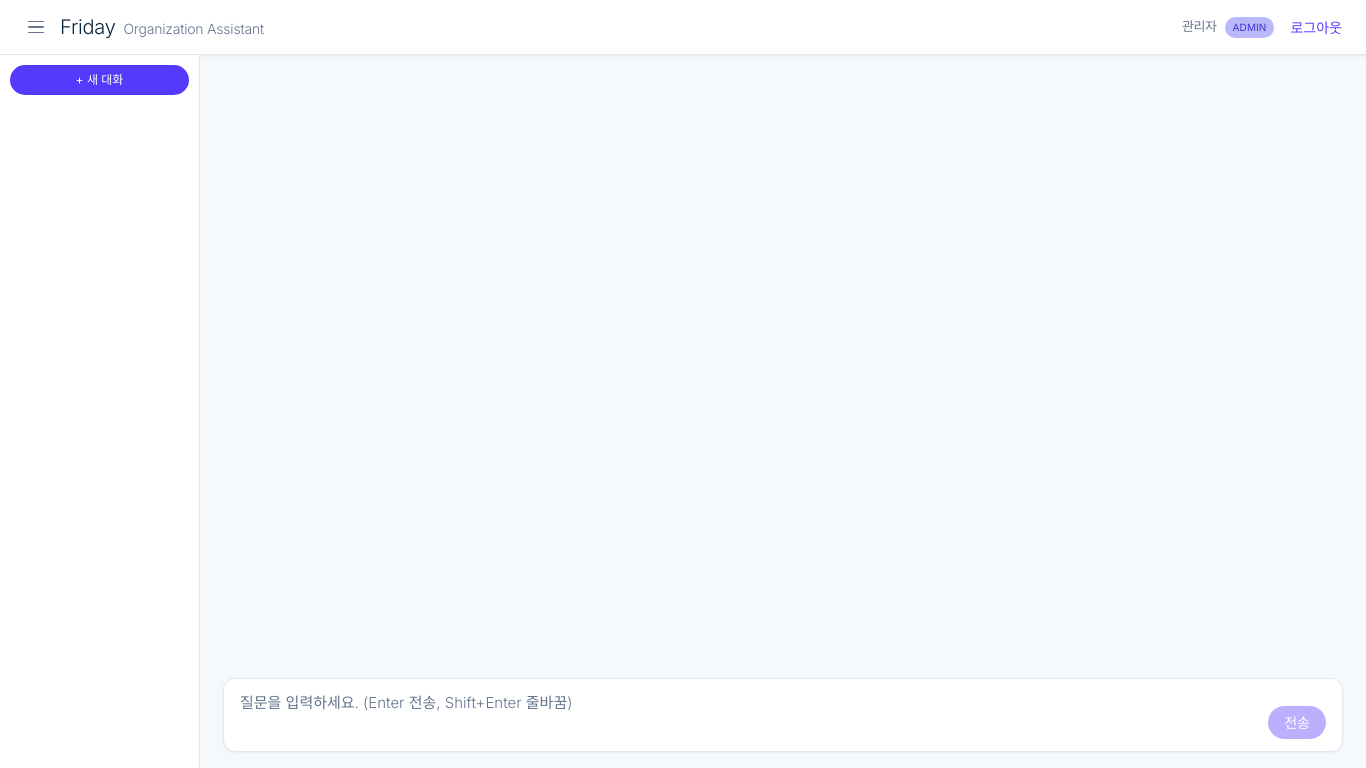
it: ChatPage interrupt(JUSTIFY) 흐름 › interrupt 대기 중 다른 세션으로 전환하면 사유 입력 모드가 해제된다
In the text box: point(748, 715) x1=240 y1=691 x2=1256 y2=739, type "alice 추가"
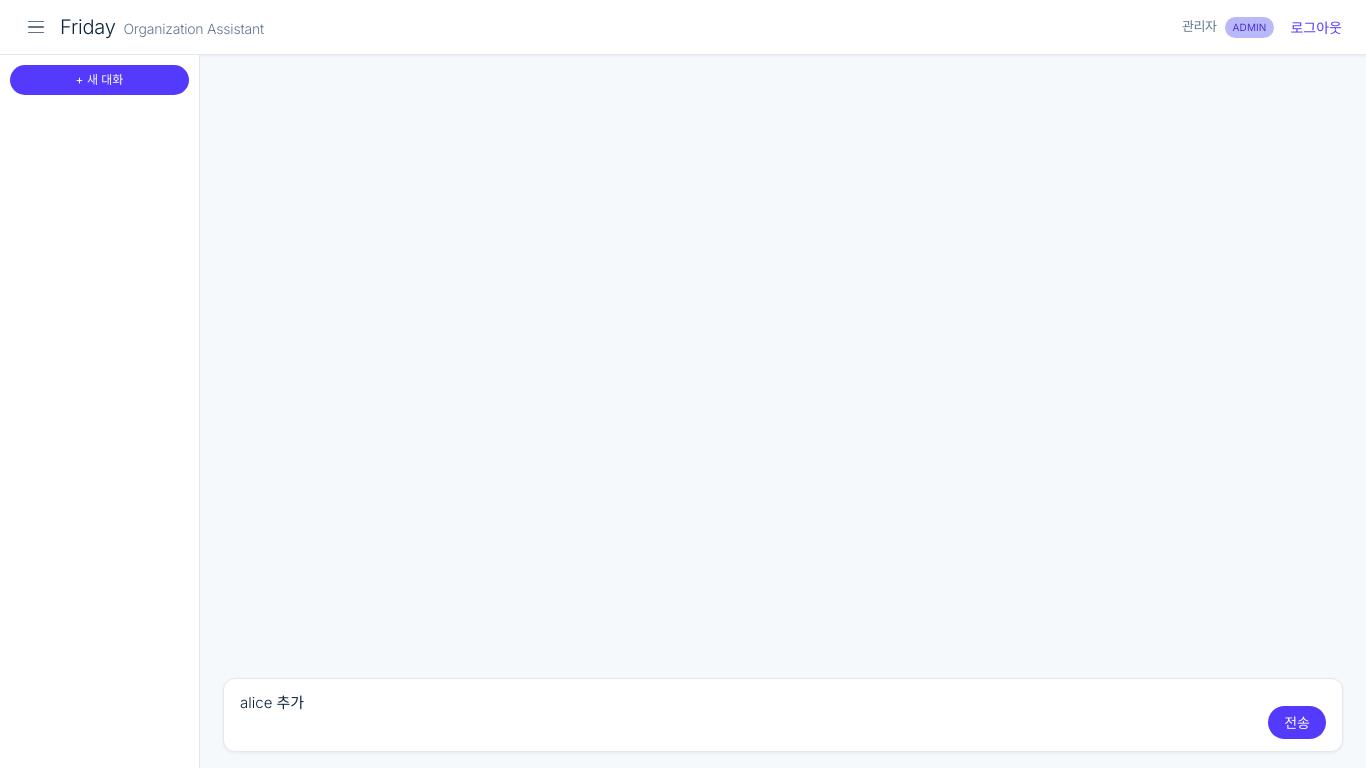
Click the button "전송": point(1297, 722) x1=1268 y1=706 x2=1326 y2=739
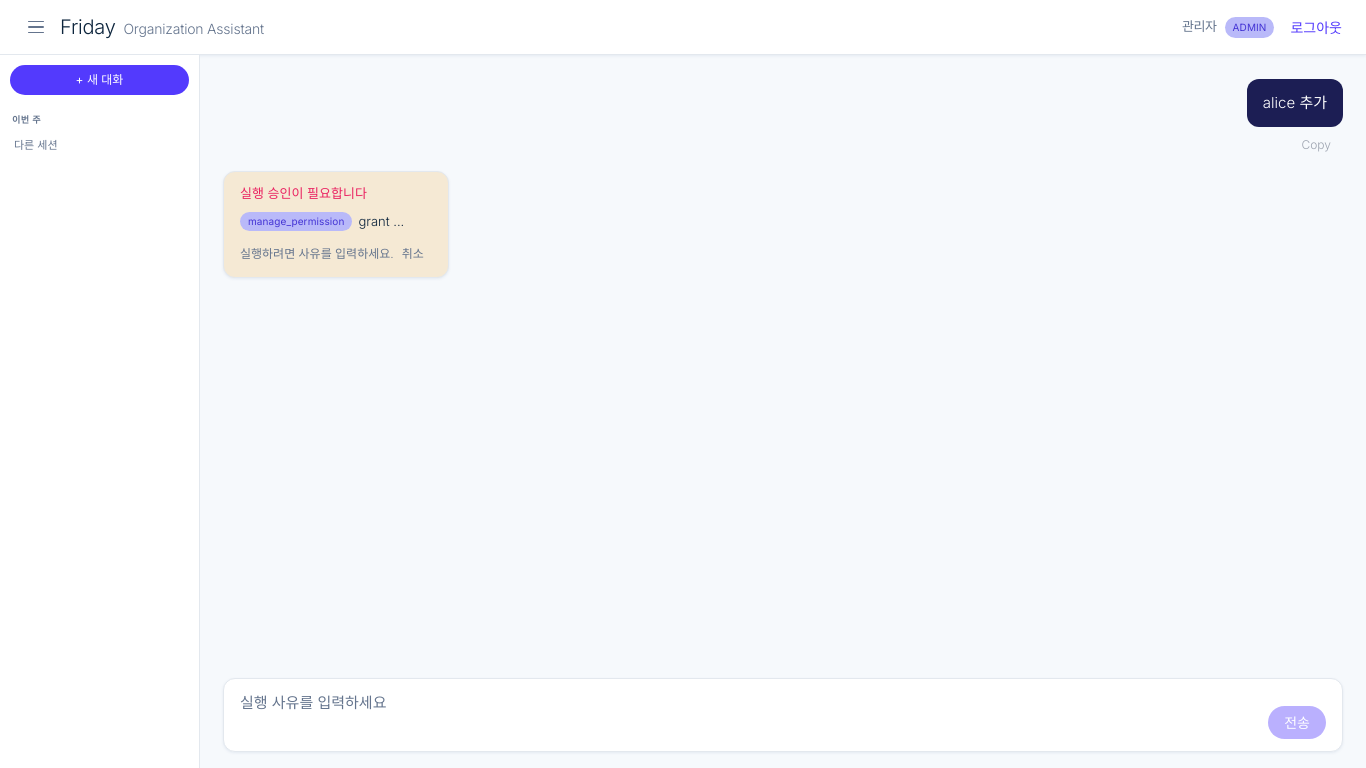
Result: the text box with placeholder "실행 사유를 입력하세요" is shown at x1=240 y1=691 x2=1256 y2=739
사이드바에서 다른 세션 선택
Click the text "다른 세션": point(36, 144) x1=14 y1=138 x2=58 y2=152
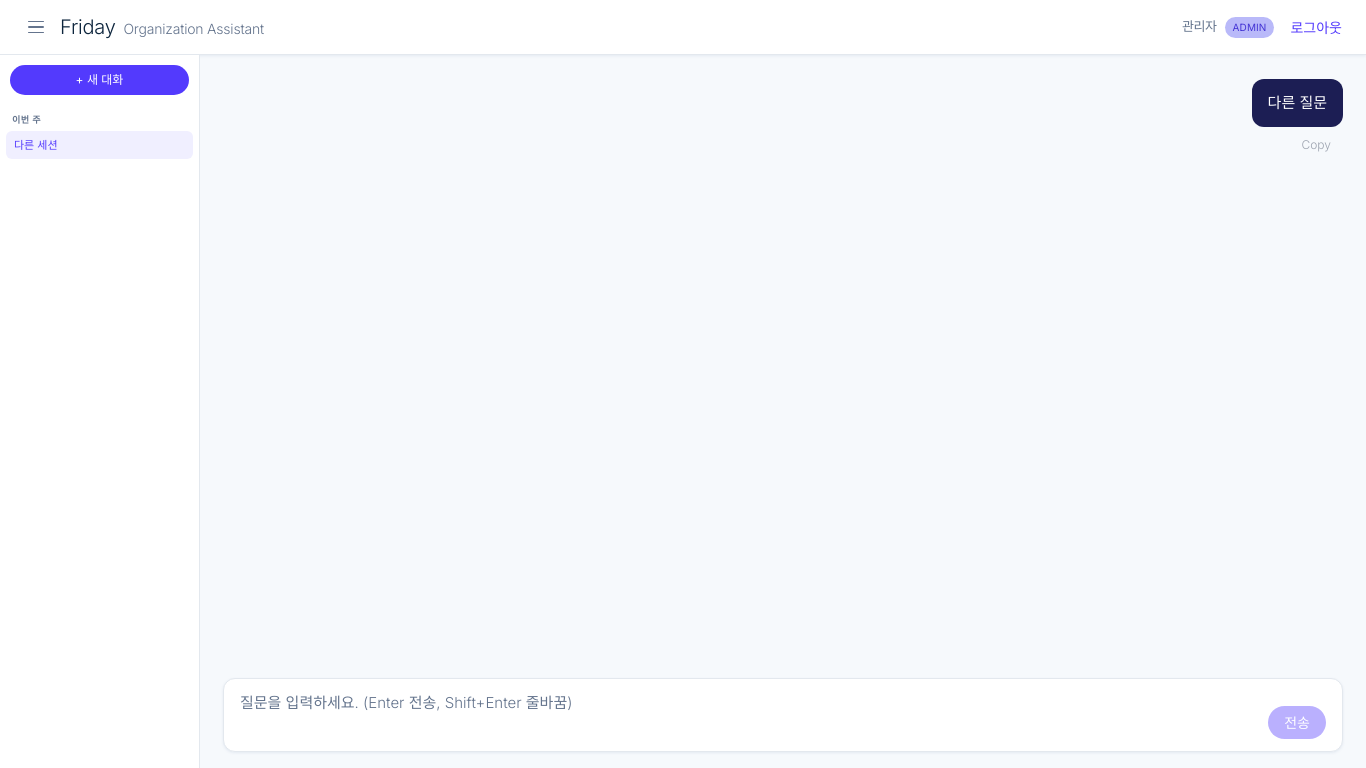
Result: the text box with placeholder "질문을 입력하세요. (Enter 전송, Shift+Enter 줄바꿈)" is shown at x1=240 y1=691 x2=1256 y2=739
